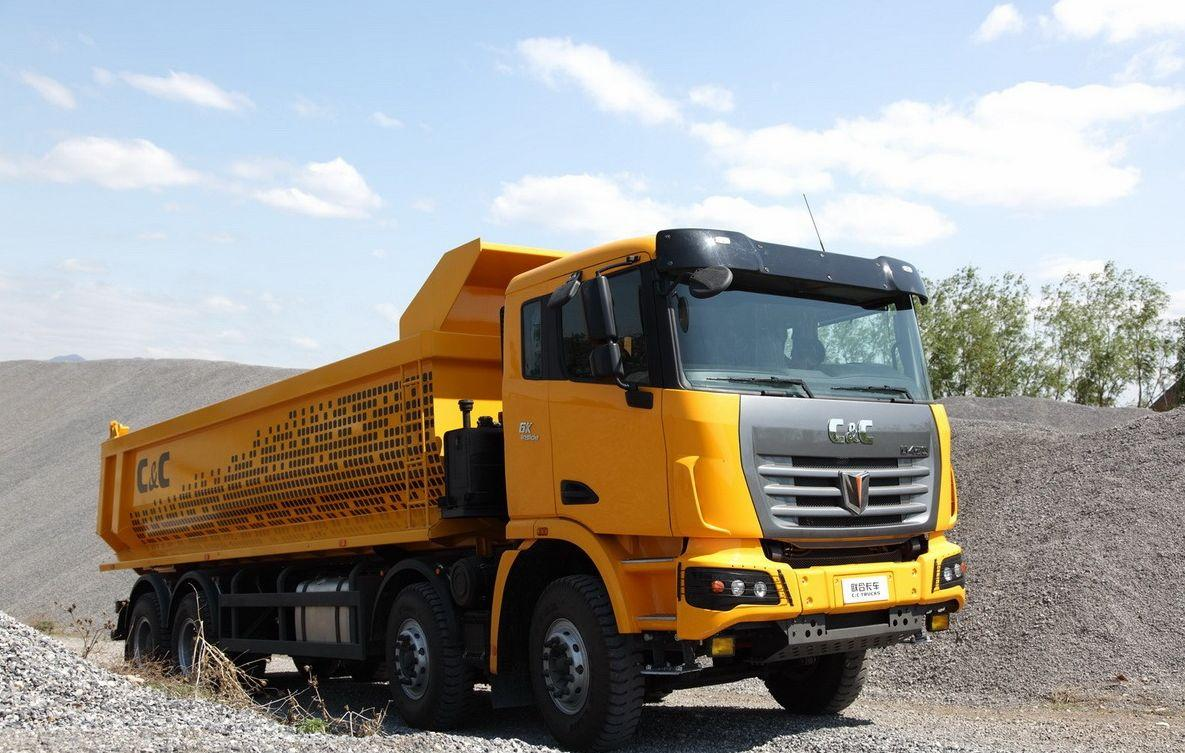truck: (64, 215, 979, 747)
